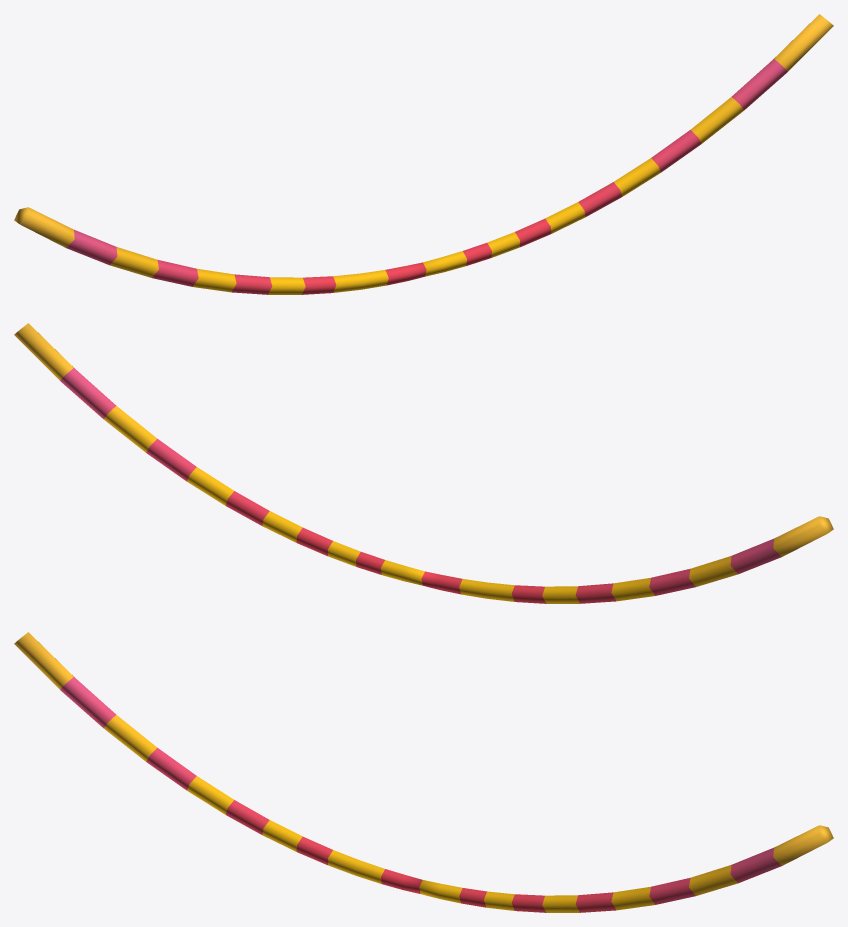
Rendered from Liana_01.glb.
3 renders of one model, top to bottom at view 1: azimuth 30°, elevation 25°; view 2: azimuth 150°, elevation 25°; view 3: azimuth 330°, elevation 25°, orthographic.
Visible parts, largest first — view 1: Liana_01; view 2: Liana_01; view 3: Liana_01.
Part boxes in pixels (bbox=[...]): Liana_01: bbox=[14, 14, 833, 294]; Liana_01: bbox=[14, 323, 833, 603]; Liana_01: bbox=[14, 632, 833, 912].
Bounding box in the file's own units: 12.02 × 2.32 × 0.2525.
Materials: 1 (1 with a texture image).
